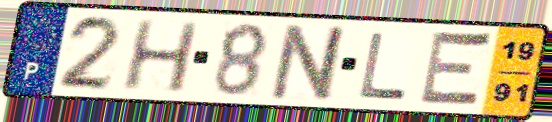2: (55, 14, 127, 93)
8: (211, 21, 272, 97)
E: (415, 26, 497, 111)
H: (118, 18, 202, 95)
L: (357, 30, 411, 102)
N: (266, 22, 355, 104)
